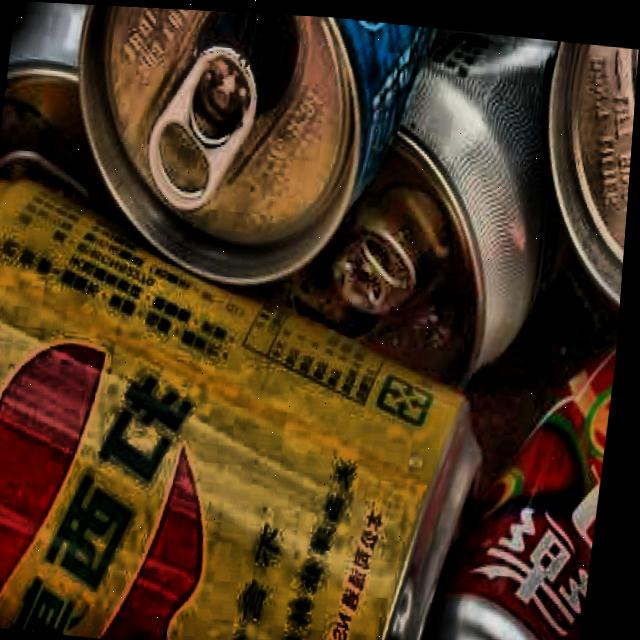metal: (0, 128, 533, 640), (49, 3, 525, 316), (280, 12, 640, 385), (397, 146, 633, 640), (0, 0, 211, 212)
